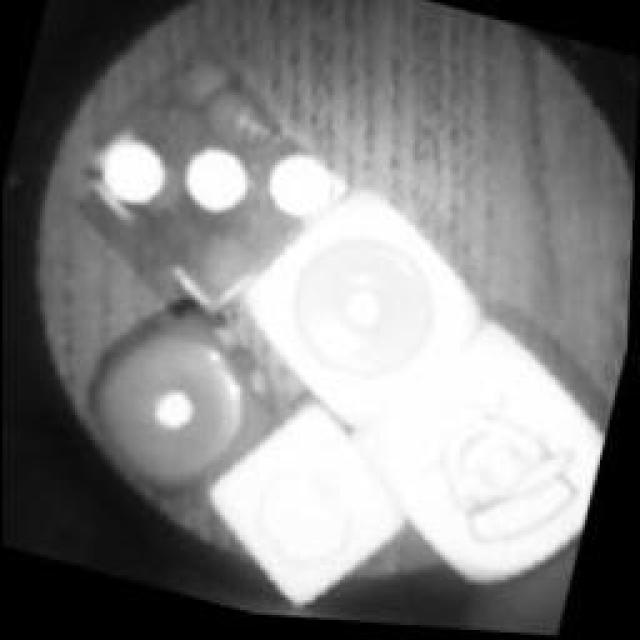dice_1: (216, 161, 509, 459), (61, 296, 291, 532)
dice_3: (48, 13, 378, 345)
